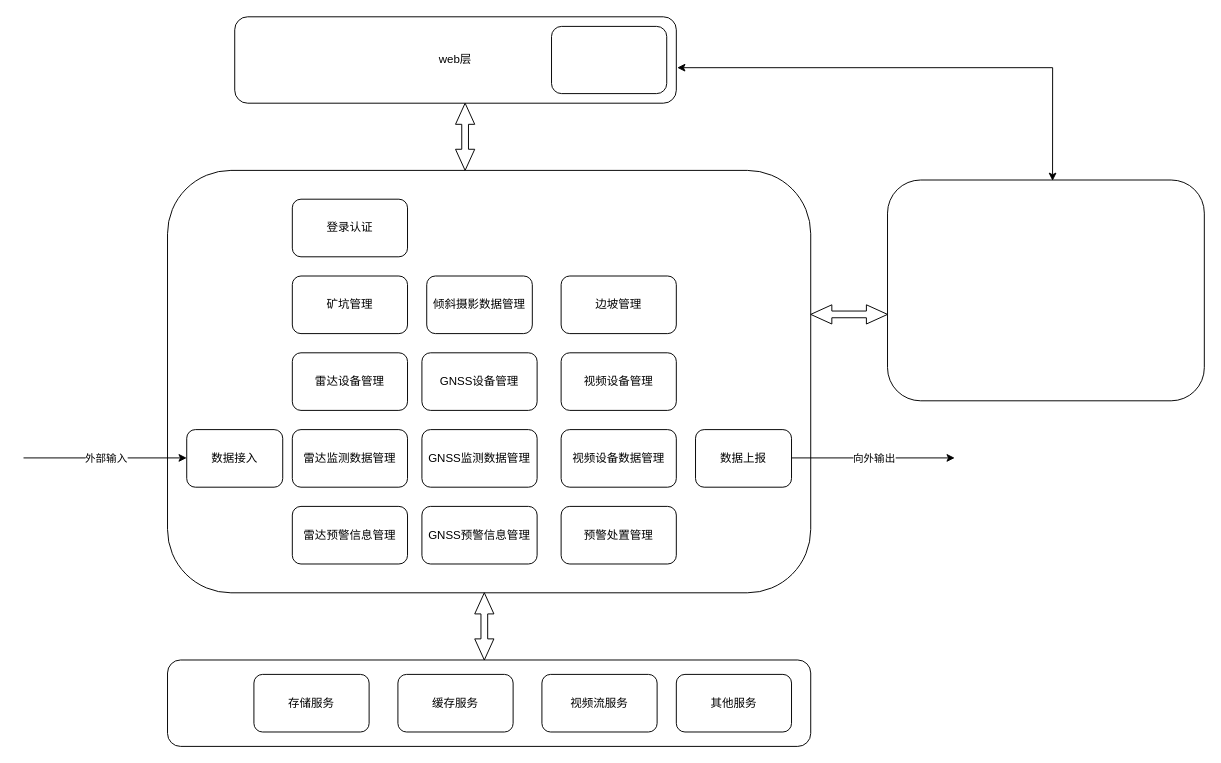
Image size: 1221x763. Some labels were removed from this diagram. The shapes that lost their labels are listed below. From the top down, each one's box as (x1, y1, x2, y2) in pixels, then its label:
(551, 25, 667, 94): UE渲染
(887, 179, 1204, 401): UE引擎服务
(167, 169, 811, 593): 应用服务层
(167, 659, 811, 746): 基础服务层
